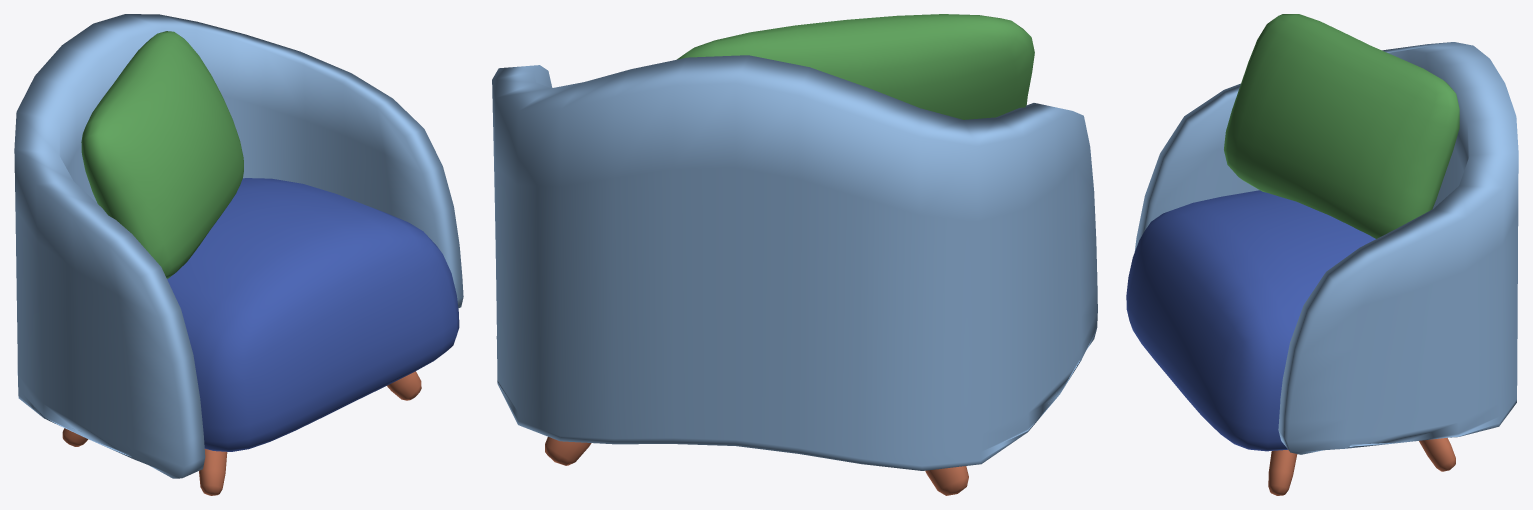
File: Wall.fbx
The picture shows the model from 3 angles, left to right: view 1: azimuth 30°, elevation 25°; view 2: azimuth 150°, elevation 25°; view 3: azimuth 270°, elevation 25°; orthographic projection. The views are drawn at different scales.
Visible parts, largest first — view 1: Sofa.001; view 2: Sofa.001; view 3: Sofa.001.
Part boxes in pixels (box(x1,y1,x2,y2)): Sofa.001: box(14, 14, 463, 495); Sofa.001: box(492, 14, 1097, 495); Sofa.001: box(1126, 14, 1518, 495).
Size of the model in its own units: 565 by 464 by 485.
